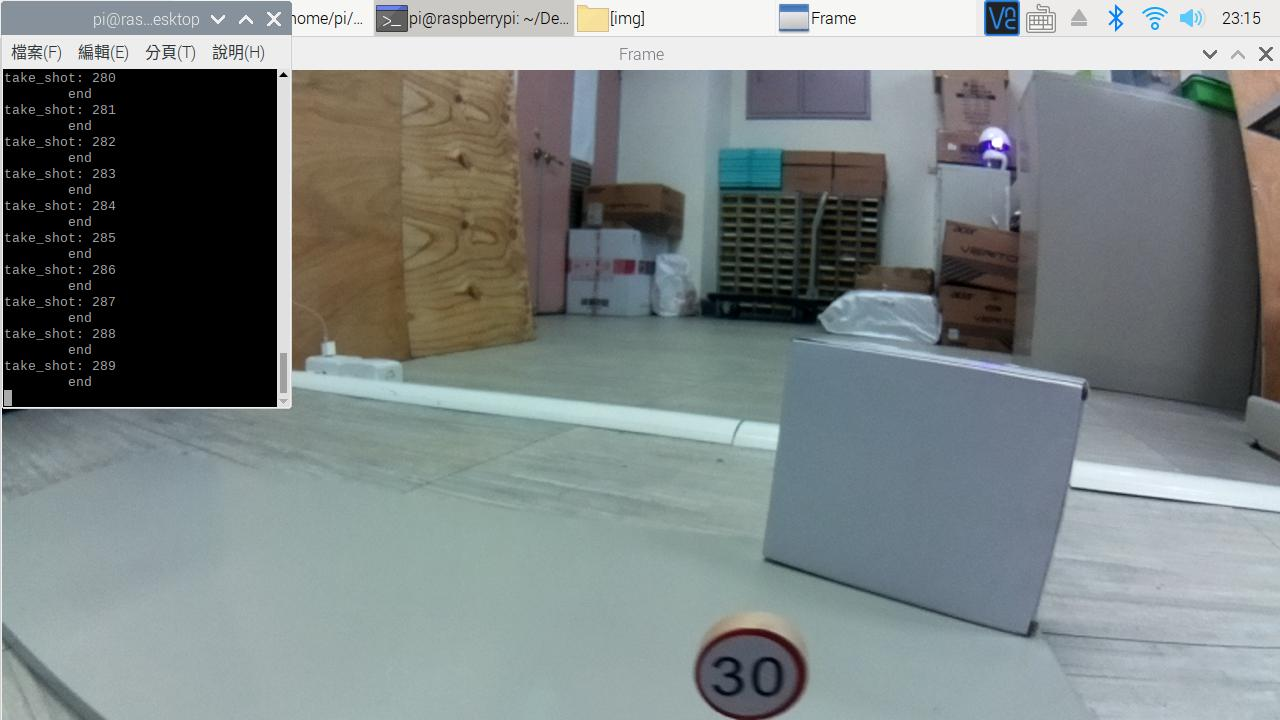Speed30: (654, 613, 850, 720)
